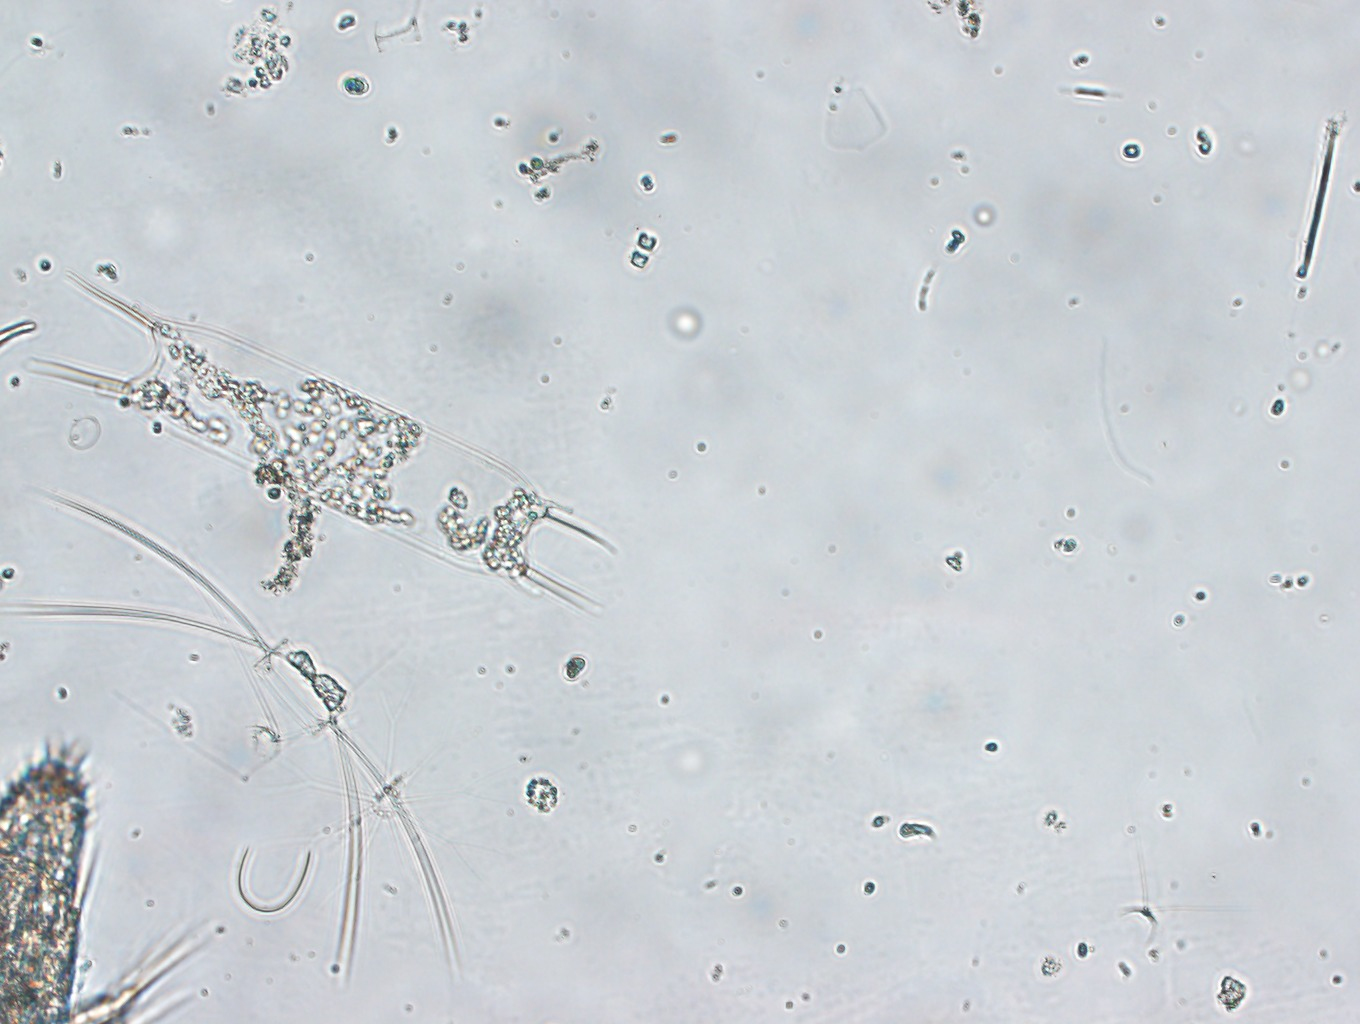biddulphia: (15, 255, 620, 626)
chaetoceros: (10, 486, 466, 992)
